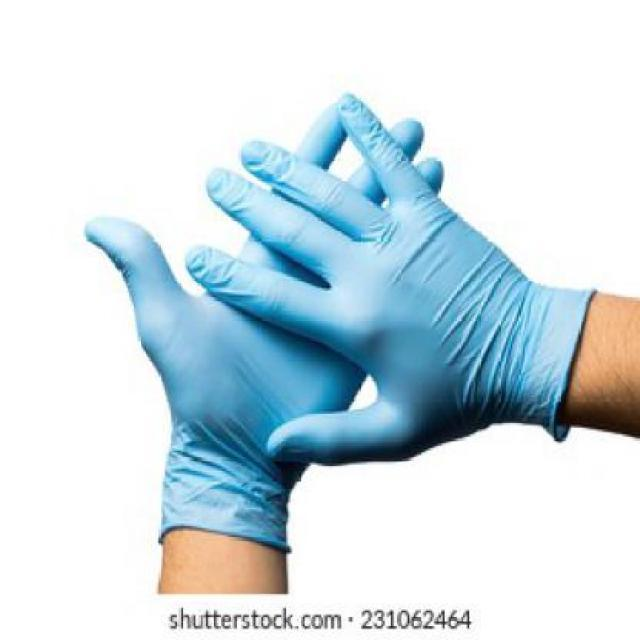gloved_hand: (81, 90, 596, 553)
